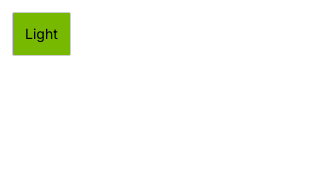
ThemeToggle › keeps the selected theme when saving the preference fails
This screenshot has width=332, height=172.
Click the button with aria-label "Switch to light theme".
click(41, 34)  # box x1=12 y1=12 x2=71 y2=56
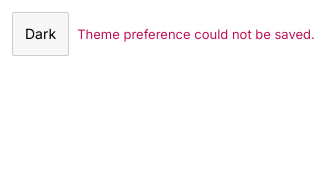
Expected: the message reads "Theme preference could not be saved.", x1=77 y1=26 x2=315 y2=42
